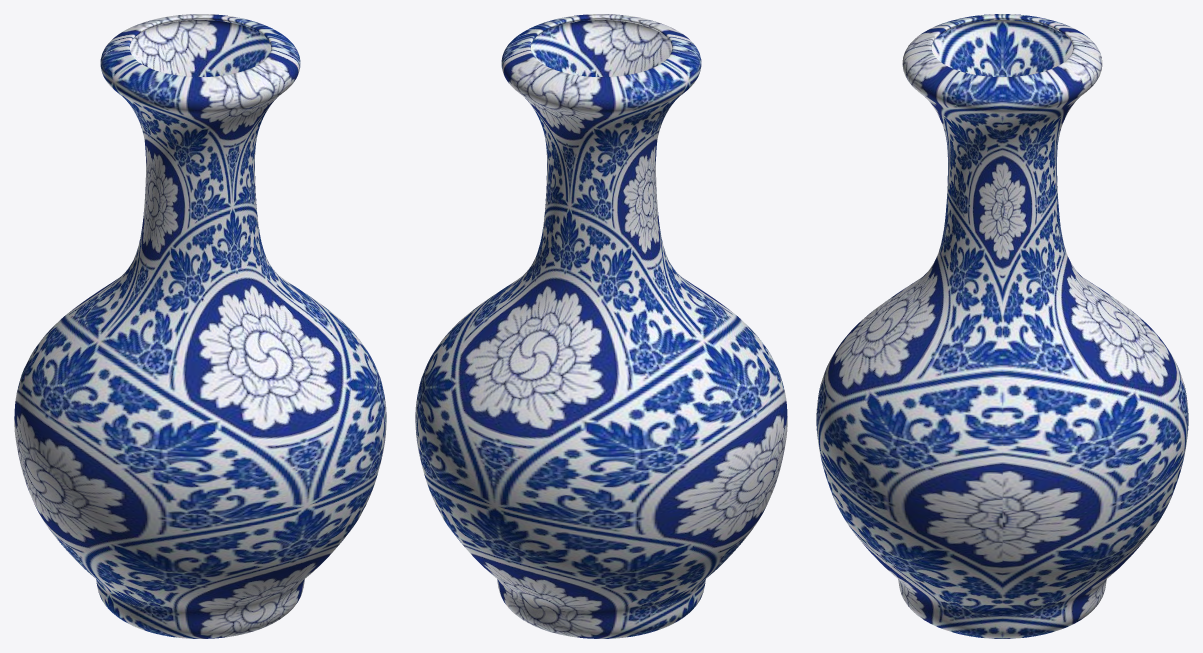
Rendered from vaso2 2.fbx.
3 views of the same model, side by side, from view 1: azimuth 30°, elevation 25°; view 2: azimuth 150°, elevation 25°; view 3: azimuth 270°, elevation 25° (orthographic).
Parts seen in each view (by area): view 1: Plane.002; view 2: Plane.002; view 3: Plane.002.
Part boxes in pixels (bbox=[...]): Plane.002: bbox=[14, 14, 386, 638]; Plane.002: bbox=[415, 14, 787, 638]; Plane.002: bbox=[816, 14, 1188, 638].
Bounding box in the file's own units: 64.29 × 109 × 64.29.
Materials: 1 (1 with a texture image).
